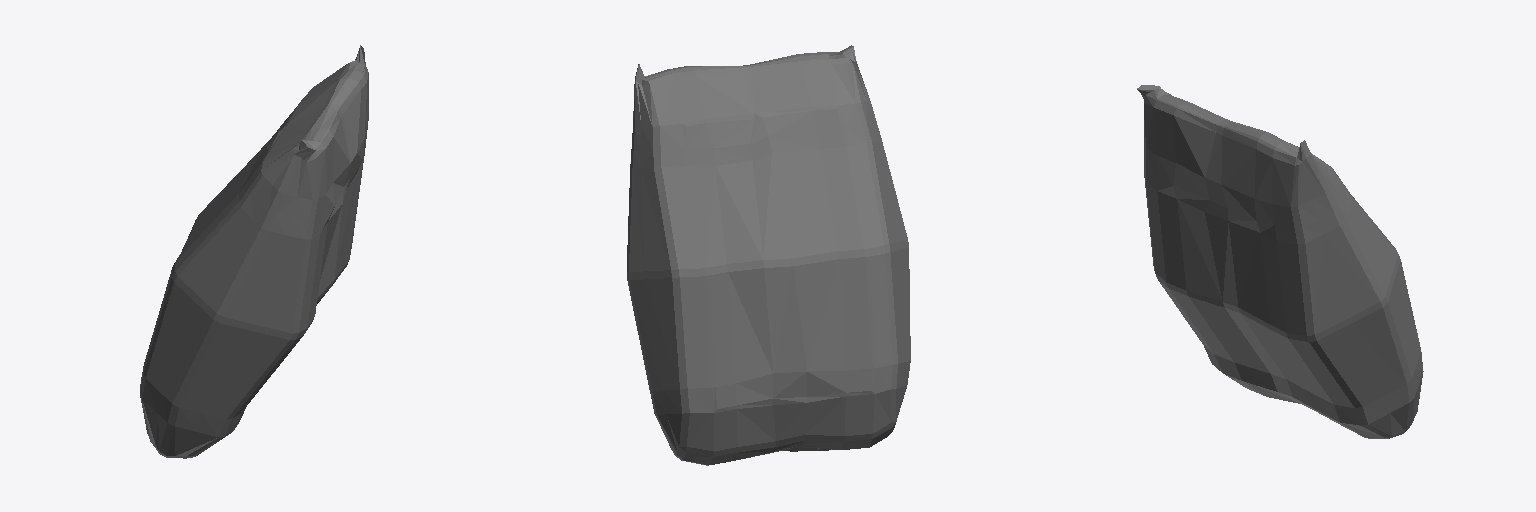
File: pupuk.obj
3 views of the same model, side by side, from view 1: azimuth 30°, elevation 25°; view 2: azimuth 150°, elevation 25°; view 3: azimuth 270°, elevation 25° (orthographic).
Visible parts, largest first — view 1: pCube37; view 2: pCube37; view 3: pCube37.
Boxes of the visible parts, x1=… form: pCube37: x1=140, y1=45, x2=368, y2=458; pCube37: x1=627, y1=45, x2=910, y2=465; pCube37: x1=1137, y1=85, x2=1423, y2=438.
Size of the model in its own units: 1.09 by 1.5 by 1.12.